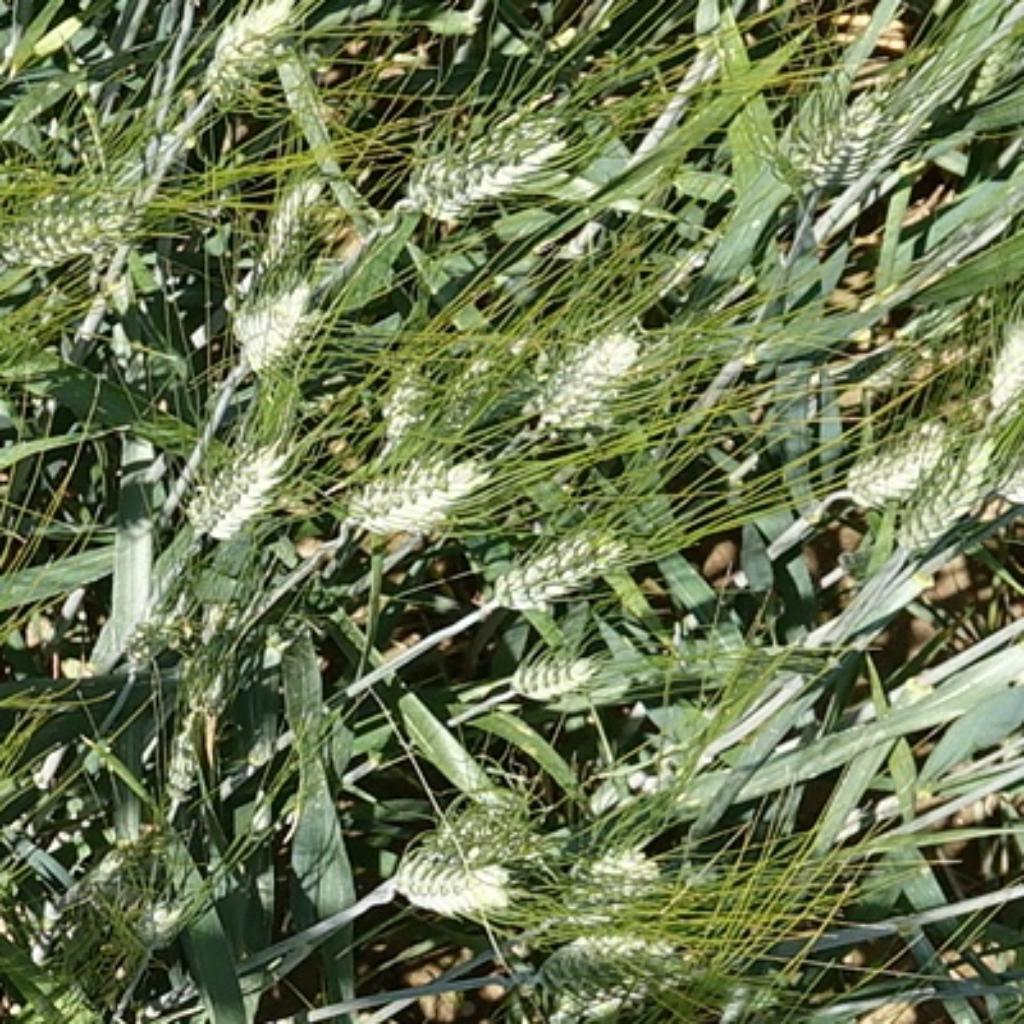0-0: (481, 501, 642, 609), (527, 320, 665, 445), (414, 118, 570, 224), (522, 924, 686, 1024), (785, 75, 919, 194), (331, 452, 485, 544), (893, 445, 998, 568), (832, 422, 965, 519), (220, 258, 330, 373), (2, 181, 124, 281), (189, 437, 297, 543), (204, 2, 312, 105), (392, 843, 529, 922), (243, 163, 340, 273), (552, 829, 668, 906), (443, 778, 550, 860), (107, 601, 192, 680), (949, 30, 1024, 117), (124, 883, 207, 956), (161, 709, 215, 814), (378, 355, 440, 441), (990, 291, 1024, 437), (518, 645, 609, 699), (551, 670, 639, 717)
